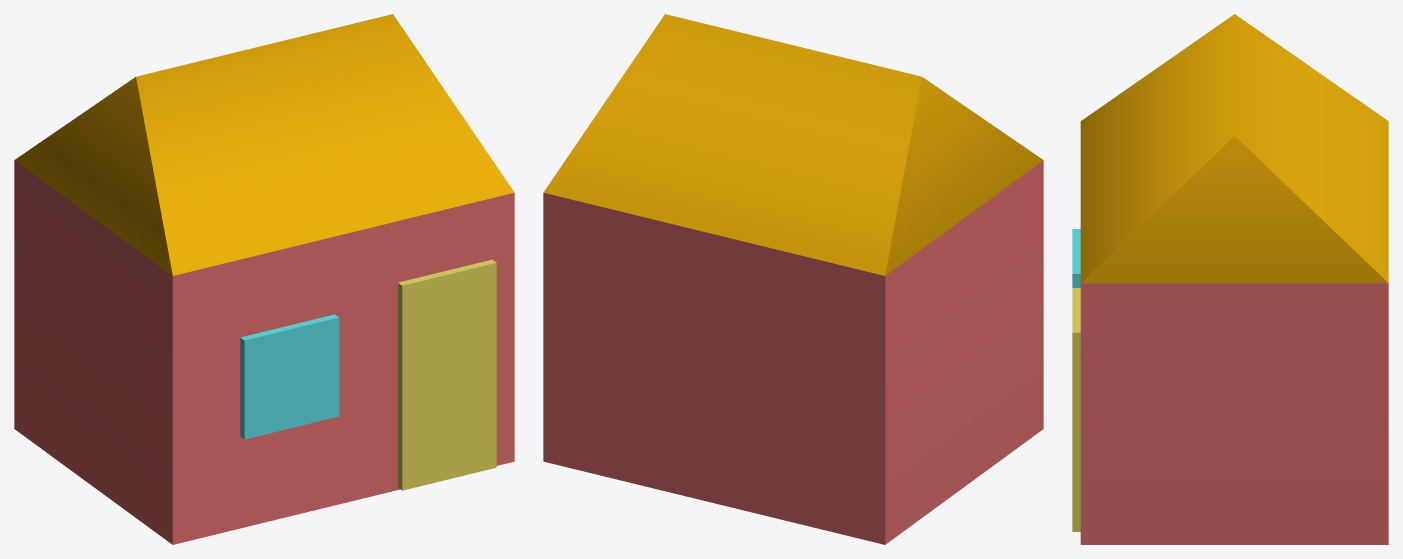
File: HOME.fbx
3 views of the same model, side by side, from view 1: azimuth 30°, elevation 25°; view 2: azimuth 150°, elevation 25°; view 3: azimuth 270°, elevation 25° (orthographic). The views are drawn at different scales.
Parts seen in each view (by area): view 1: HOME1; view 2: HOME1; view 3: HOME1.
Part boxes in pixels (box(x1,y1,x2,y2)): HOME1: box(14, 14, 514, 544); HOME1: box(543, 14, 1043, 544); HOME1: box(1072, 14, 1388, 544).
Size of the model in its own units: 10.87 by 12.16 by 8.97.
